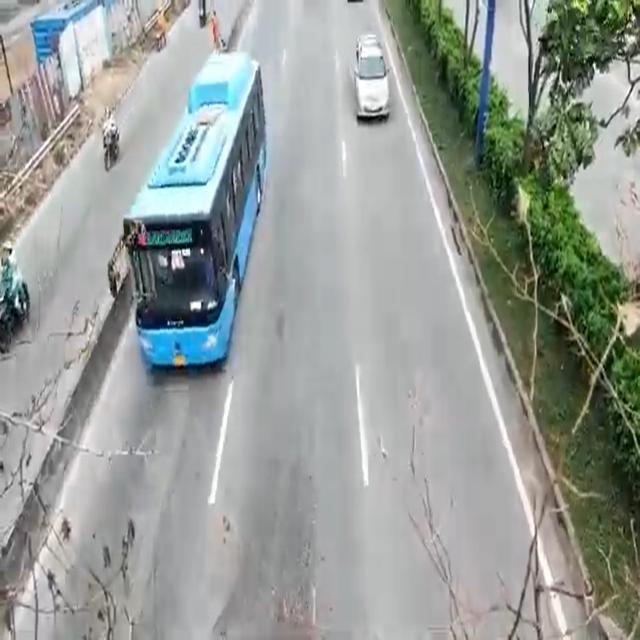bus: (128, 50, 260, 378)
car: (357, 30, 389, 126)
motor: (0, 282, 28, 343), (97, 107, 119, 174)
